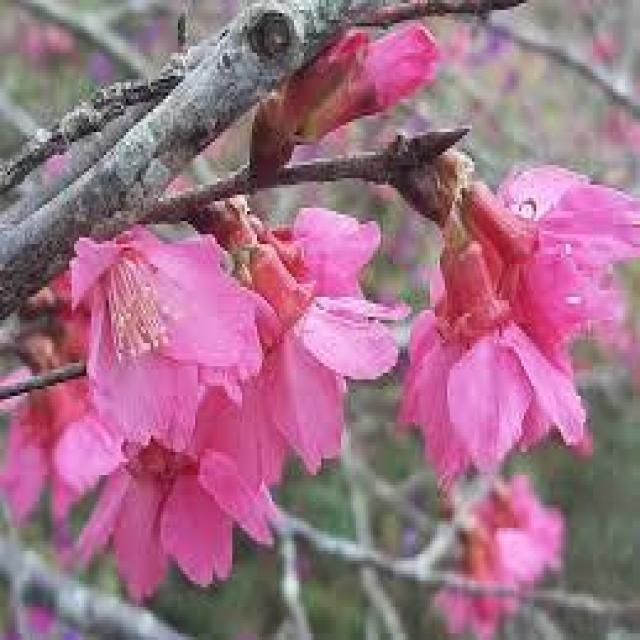organic waste: (78, 256, 288, 612), (403, 195, 605, 498), (61, 160, 270, 431), (205, 199, 398, 476), (442, 132, 623, 369)
